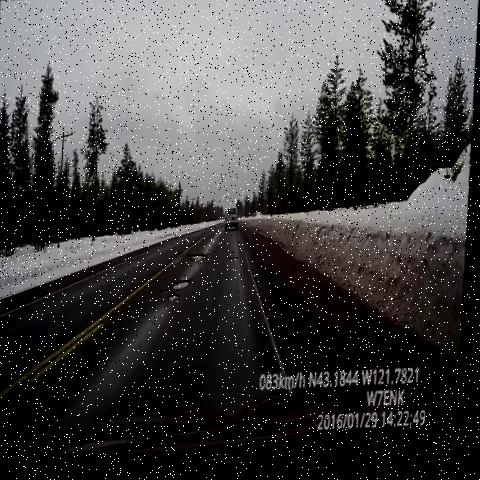pothole: (159, 278, 196, 311), (186, 248, 213, 272), (226, 247, 245, 267)
